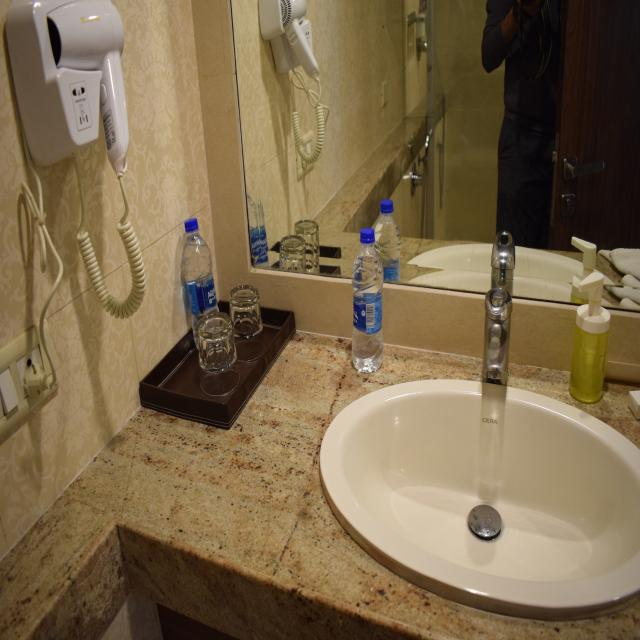mess: (142, 213, 392, 455)
